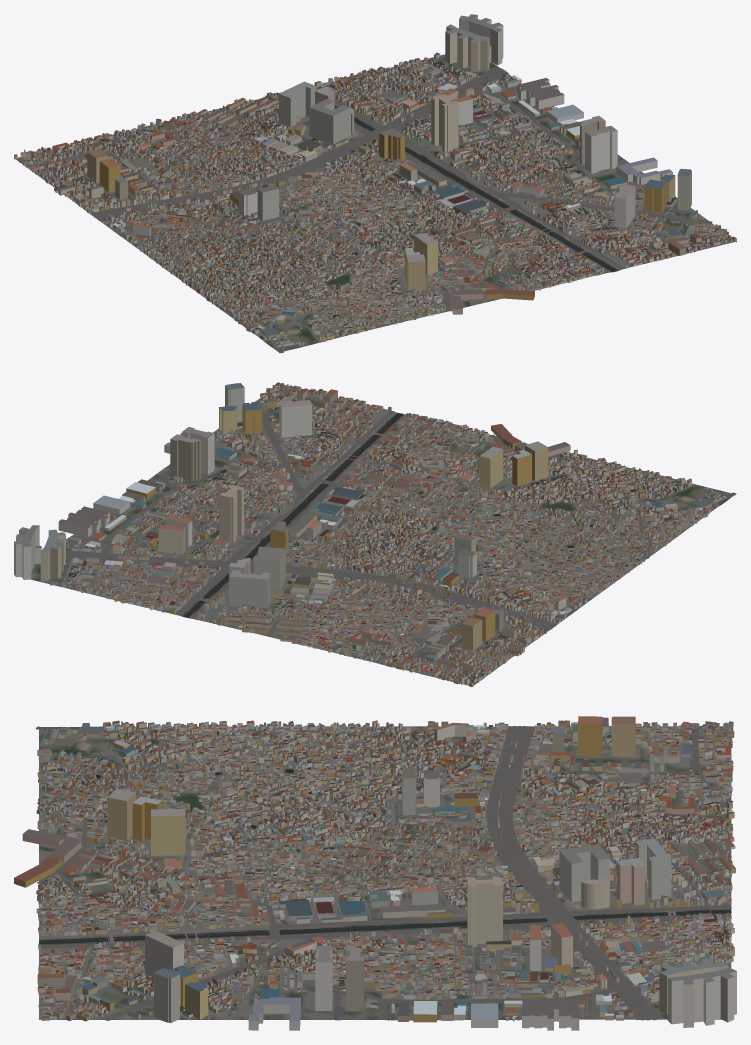
The picture shows the model from 3 angles, top to bottom: view 1: azimuth 30°, elevation 25°; view 2: azimuth 150°, elevation 25°; view 3: azimuth 270°, elevation 25°; orthographic projection. The views are drawn at different scales.
Parts seen in each view (by area): view 1: buildings, ground, roads, water; view 2: buildings, ground, roads, water; view 3: buildings, ground, roads, water.
Boxes of the visible parts, <box> form: buildings: <box>14,14,736,346</box>; ground: <box>15,54,736,351</box>; roads: <box>18,55,735,353</box>; water: <box>249,105,622,347</box>; buildings: <box>14,382,725,686</box>; ground: <box>20,385,735,684</box>; roads: <box>40,386,736,685</box>; water: <box>162,412,727,617</box>; buildings: <box>14,716,736,1030</box>; ground: <box>39,726,731,1020</box>; roads: <box>36,725,733,1020</box>; water: <box>39,727,731,1019</box>.
Size of the model in its own units: 1464 by 140 by 1464.
